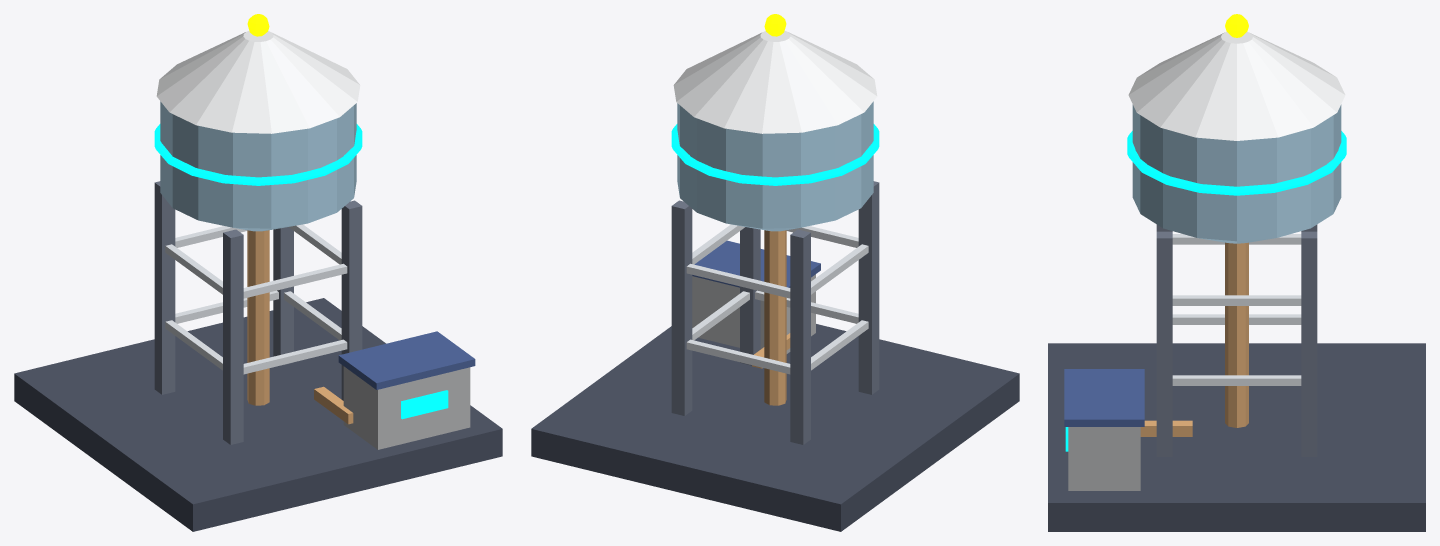
The model's file is water_tower.glb.
3 renders of one model, left to right at view 1: azimuth 30°, elevation 25°; view 2: azimuth 150°, elevation 25°; view 3: azimuth 270°, elevation 25°, orthographic. The views are drawn at different scales.
Visible parts, largest first — view 1: plinth, Tank, TankRoof, PumpHouse, PumpRoof, Leg_0, Leg_2, RiserPipe, Leg_1, Leg_3, TankBand, BraceS_0.28 (+9 smaller); view 2: plinth, Tank, TankRoof, Leg_3, Leg_2, Leg_0, RiserPipe, PumpHouse, TankBand, Leg_1, PumpRoof, BraceN_0.28 (+7 smaller); view 3: plinth, Tank, TankRoof, PumpRoof, PumpHouse, RiserPipe, Leg_1, Leg_3, TankBand, BraceE_0.5, BraceE_0.28, BraceW_0.28 (+3 smaller).
Boxes of the visible parts, left/top/right/bottom form: plinth: left=14, top=298, right=502, bottom=531; Tank: left=160, top=101, right=356, bottom=228; TankRoof: left=156, top=31, right=360, bottom=133; PumpHouse: left=343, top=366, right=470, bottom=449; PumpRoof: left=338, top=331, right=475, bottom=389; Leg_0: left=223, top=229, right=243, bottom=444; Leg_2: left=154, top=181, right=175, bottom=394; RiserPipe: left=247, top=230, right=269, bottom=405; Leg_1: left=341, top=200, right=362, bottom=400; Leg_3: left=273, top=227, right=293, bottom=365; TankBand: left=154, top=124, right=362, bottom=185; BraceS_0.28: left=243, top=339, right=347, bottom=374; plinth: left=531, top=324, right=1019, bottom=531; Tank: left=677, top=101, right=873, bottom=228; TankRoof: left=673, top=31, right=877, bottom=133; Leg_3: left=671, top=200, right=692, bottom=415; Leg_2: left=790, top=229, right=810, bottom=444; Leg_0: left=858, top=181, right=879, bottom=394; RiserPipe: left=764, top=230, right=786, bottom=405; PumpHouse: left=692, top=274, right=815, bottom=353; TankBand: left=671, top=124, right=879, bottom=185; Leg_1: left=740, top=227, right=760, bottom=365; PumpRoof: left=692, top=240, right=820, bottom=287; BraceN_0.28: left=686, top=339, right=790, bottom=374; plinth: left=1048, top=343, right=1425, bottom=531; Tank: left=1132, top=104, right=1341, bottom=241; TankRoof: left=1128, top=32, right=1345, bottom=140; PumpRoof: left=1064, top=369, right=1144, bottom=426; PumpHouse: left=1068, top=427, right=1140, bottom=490; RiserPipe: left=1225, top=242, right=1248, bottom=427; Leg_1: left=1156, top=231, right=1172, bottom=456; Leg_3: left=1301, top=231, right=1317, bottom=456; TankBand: left=1127, top=131, right=1346, bottom=195; BraceE_0.5: left=1172, top=295, right=1301, bottom=305; BraceE_0.28: left=1172, top=375, right=1301, bottom=385; BraceW_0.28: left=1172, top=314, right=1301, bottom=324.
Size of the model in its own units: 0.94 by 1.2 by 0.94.
